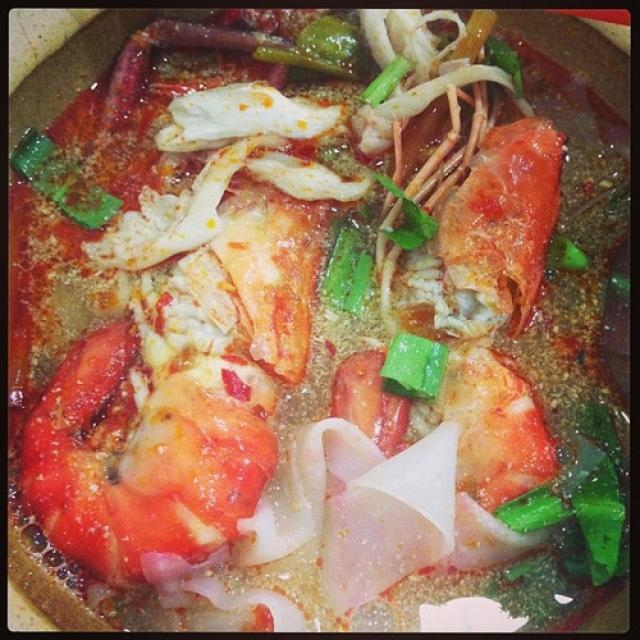汤锅炖物: (22, 20, 609, 608)
